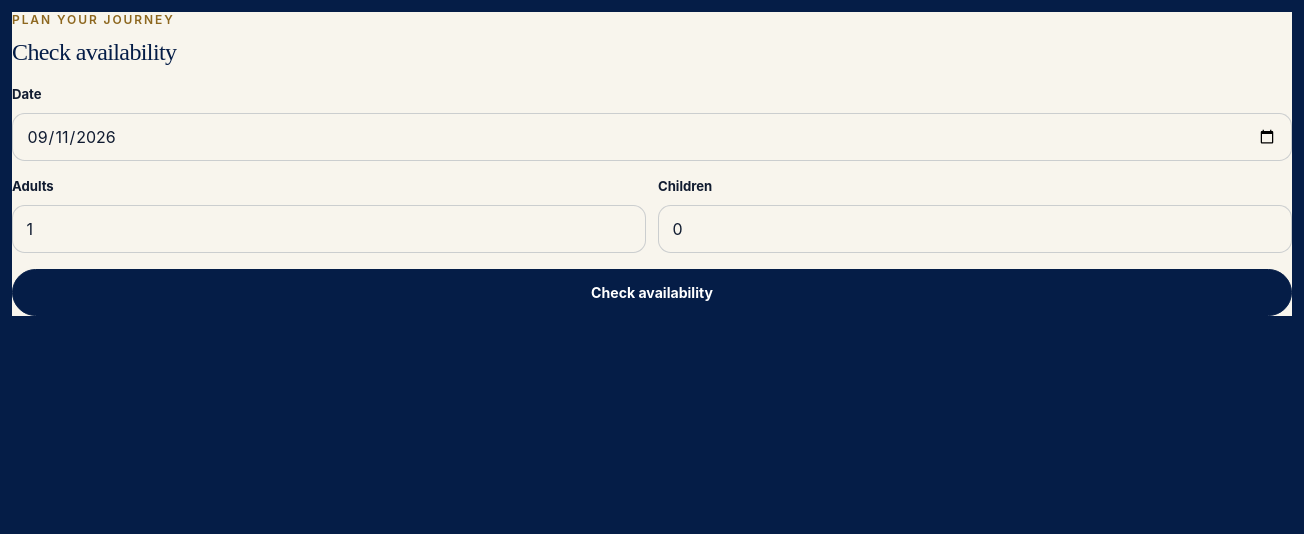
Test: ProductAvailabilityPanel › checks experience inventory and presents server-calculated slots
What coordinates should you click on to do the following:
click the button "Check availability"
I would click on:
 (652, 292)
Its box is [12,269,1292,316].
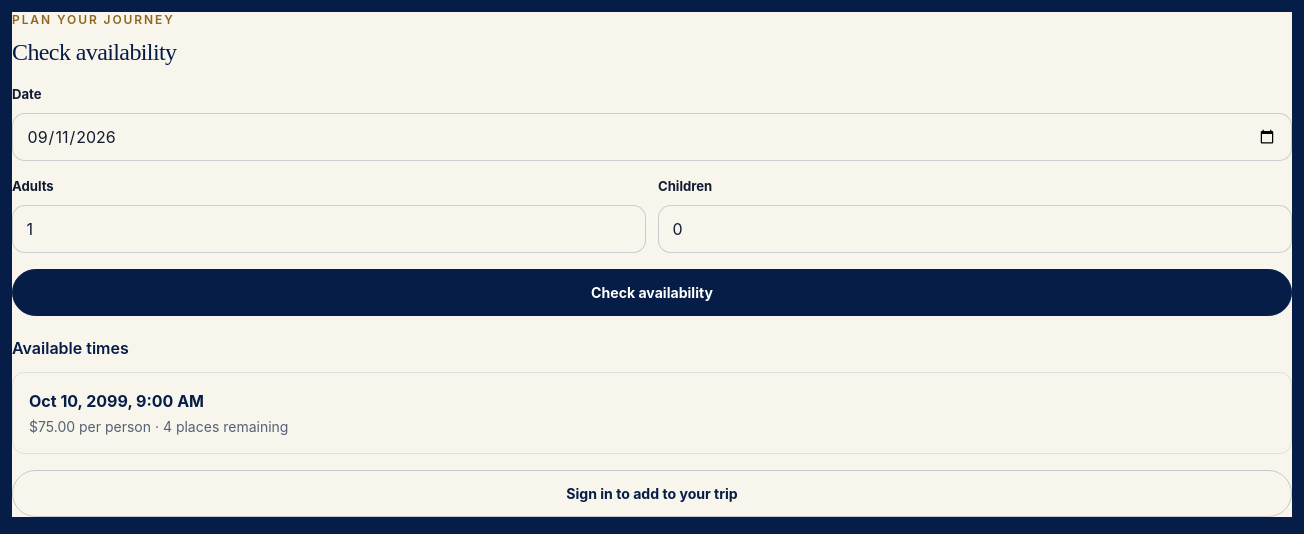
expect the text "Available times" is shown: met, box [12,338,129,358]
expect the text "$75.00 per person · 4 places remaining" is shown: met, box [29,418,288,435]
